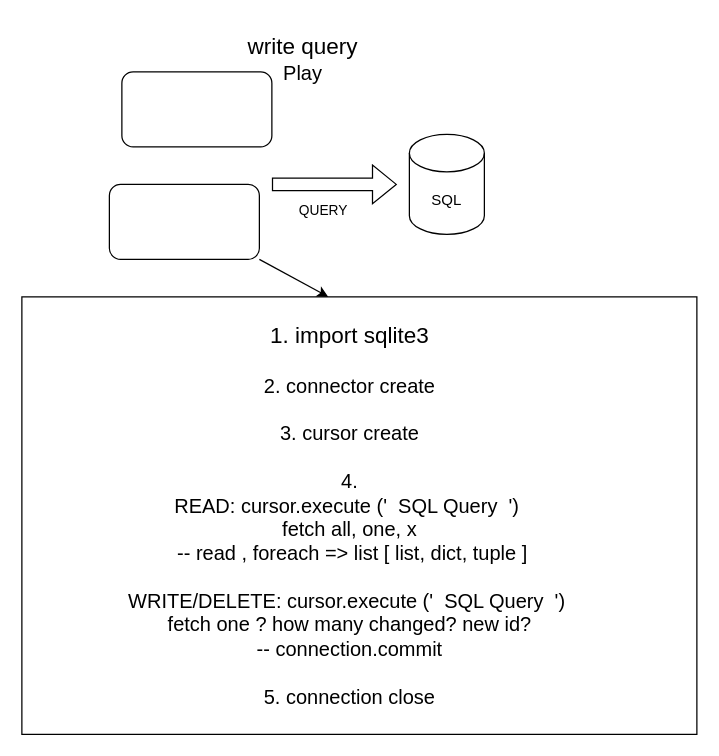
The diagram is 719 pixels wide and 756 high, and some of its shapes have lost their labels. The centre of each missing label's shape, as x and y in pixels:
"DB BROWSER DBEAVER DATA GRIP ..." belongs at [196,109].
"PYTHON (pycharm)" belongs at [183,221].
